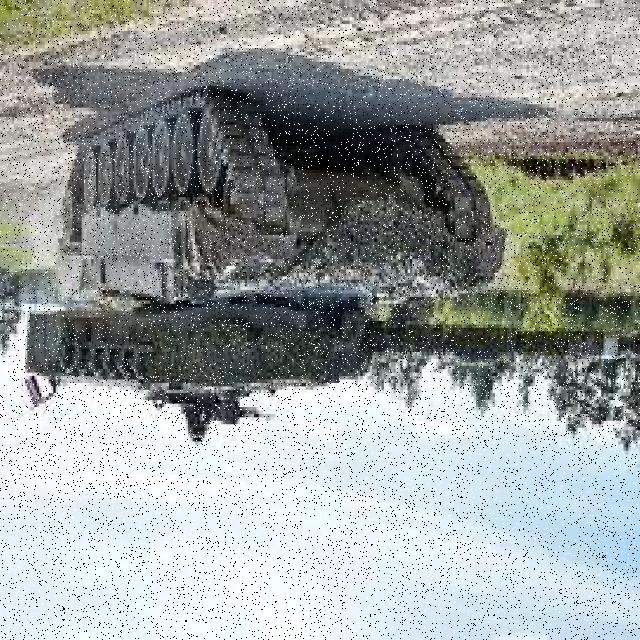MIL_MBT: (24, 96, 620, 452)
